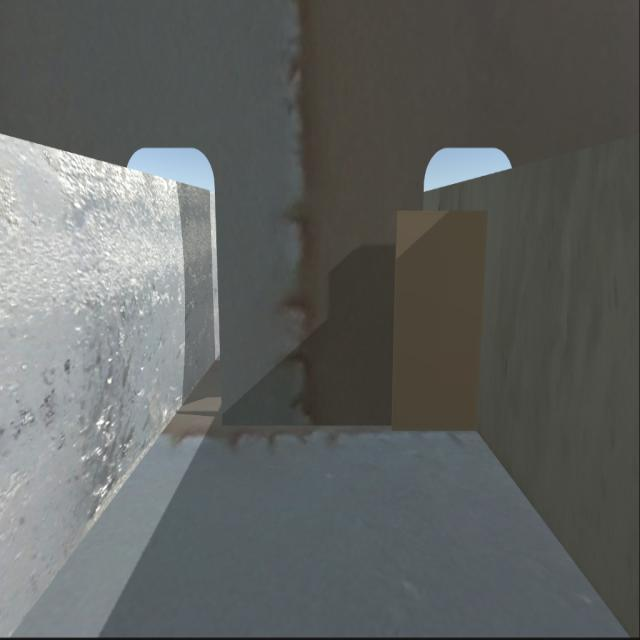fillet_yong_jeop_jang: (220, 418, 477, 430)
longi_yong_jeop_jang: (469, 211, 493, 424)
plate_CP01: (391, 211, 488, 431)
